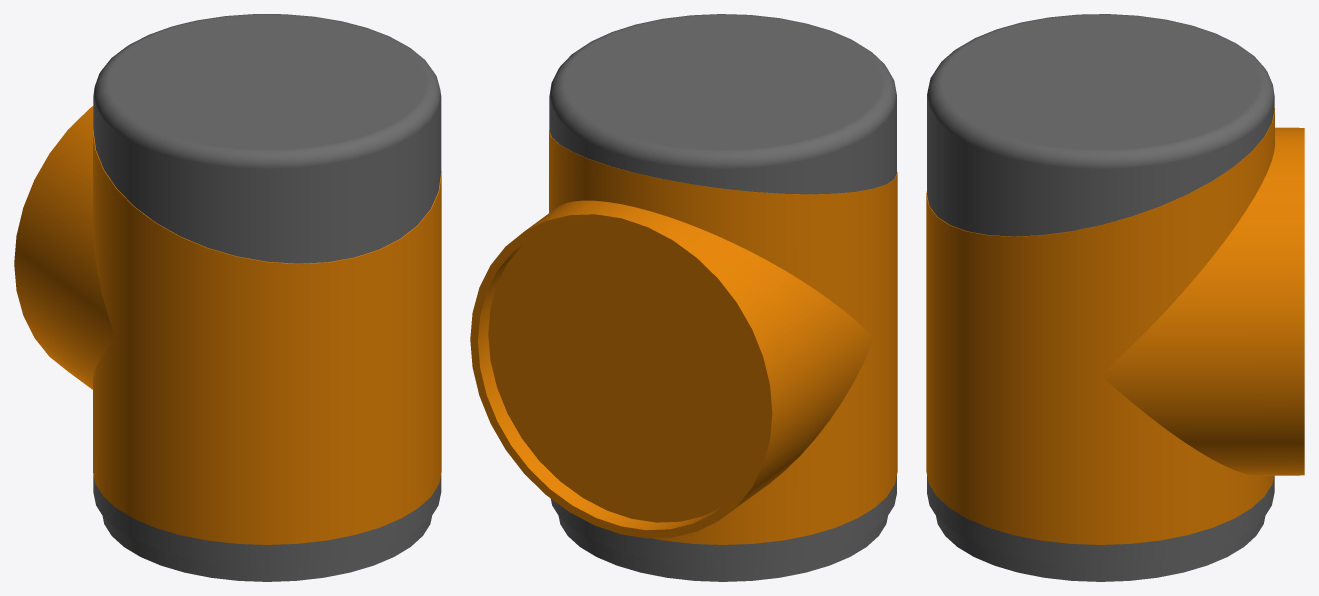
3 renders of one model, left to right at view 1: azimuth 30°, elevation 25°; view 2: azimuth 150°, elevation 25°; view 3: azimuth 270°, elevation 25°, orthographic.
Visible parts, largest first — view 1: NONE-lib; view 2: NONE-lib; view 3: NONE-lib.
Boxes of the visible parts, bbox=[...] form: NONE-lib: bbox=[14, 14, 441, 581]; NONE-lib: bbox=[470, 14, 897, 581]; NONE-lib: bbox=[926, 14, 1304, 581].
Bounding box in the file's own units: 0.118 × 0.1603 × 0.128.
